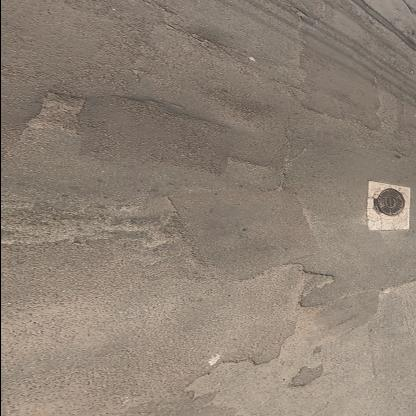manholes: (363, 186, 408, 219)
